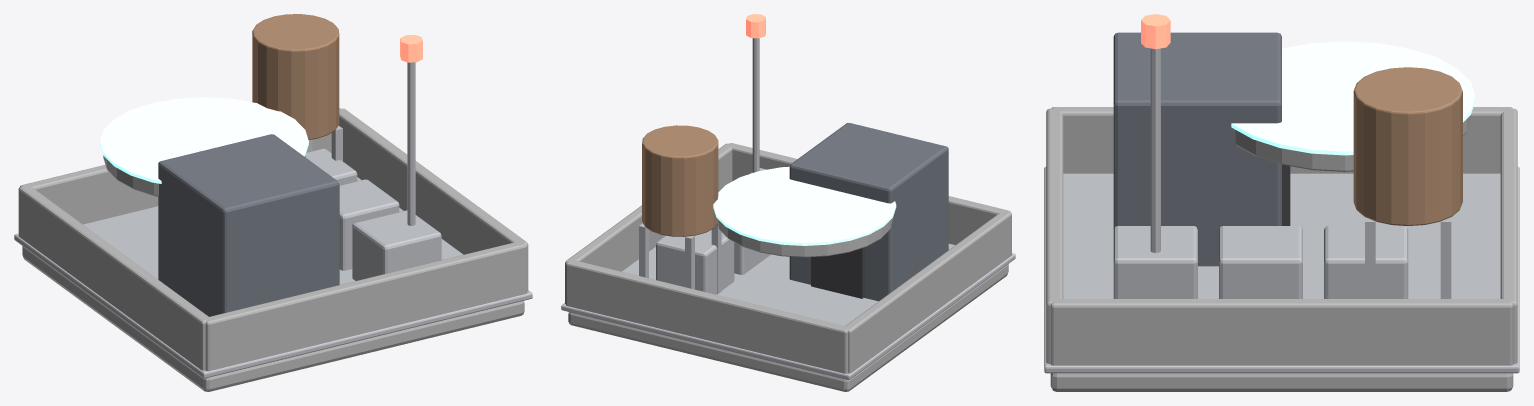
The model's file is roof_2x2_heli_office.glb.
3 renders of one model, left to right at view 1: azimuth 30°, elevation 25°; view 2: azimuth 150°, elevation 25°; view 3: azimuth 270°, elevation 25°, orthographic. The views are drawn at different scales.
Parts seen in each view (by area): view 1: ext_parapet, ext_penthouse, ext_helipad_ring, ext_tank, ext_ac, int_slab, int_slab_edge, ext_mast, ext_helipad, ext_beacon, ext_tank_legs; view 2: ext_parapet, ext_penthouse, ext_helipad_ring, int_slab_edge, ext_tank, int_slab, ext_ac, ext_penthouse_door, ext_helipad, ext_tank_legs, ext_mast, ext_beacon; view 3: ext_parapet, ext_penthouse, int_slab_edge, ext_ac, ext_tank, ext_helipad_ring, int_slab, ext_mast, ext_helipad, ext_tank_legs, ext_beacon, ext_penthouse_door.
Part boxes in pixels (x1=…): ext_parapet: x1=18, y1=108, x2=528, y2=371; ext_penthouse: x1=158, y1=134, x2=339, y2=316; ext_helipad_ring: x1=100, y1=97, x2=308, y2=183; ext_tank: x1=252, y1=14, x2=339, y2=139; ext_ac: x1=305, y1=148, x2=441, y2=280; int_slab: x1=22, y1=246, x2=524, y2=391; int_slab_edge: x1=14, y1=177, x2=532, y2=378; ext_mast: x1=407, y1=62, x2=415, y2=225; ext_helipad: x1=103, y1=155, x2=305, y2=196; ext_beacon: x1=400, y1=34, x2=422, y2=62; ext_tank_legs: x1=306, y1=125, x2=342, y2=161; ext_parapet: x1=565, y1=143, x2=1011, y2=373; ext_penthouse: x1=789, y1=123, x2=948, y2=301; ext_helipad_ring: x1=713, y1=166, x2=896, y2=245; int_slab_edge: x1=561, y1=243, x2=1015, y2=380; ext_tank: x1=642, y1=125, x2=718, y2=236; int_slab: x1=568, y1=264, x2=1008, y2=391; ext_ac: x1=656, y1=168, x2=770, y2=294; ext_penthouse_door: x1=811, y1=247, x2=865, y2=298; ext_helipad: x1=716, y1=217, x2=893, y2=257; ext_tank_legs: x1=639, y1=223, x2=721, y2=293; ext_mast: x1=752, y1=38, x2=759, y2=172; ext_beacon: x1=746, y1=14, x2=765, y2=38; ext_parapet: x1=1046, y1=107, x2=1517, y2=365; ext_penthouse: x1=1113, y1=32, x2=1281, y2=266; int_slab_edge: x1=1044, y1=166, x2=1519, y2=373; ext_ac: x1=1113, y1=226, x2=1408, y2=298; ext_tank: x1=1353, y1=67, x2=1462, y2=225; ext_helipad_ring: x1=1231, y1=41, x2=1475, y2=155; int_slab: x1=1050, y1=373, x2=1513, y2=391; ext_mast: x1=1150, y1=48, x2=1160, y2=252; ext_helipad: x1=1235, y1=114, x2=1471, y2=171; ext_tank_legs: x1=1365, y1=217, x2=1451, y2=298; ext_beacon: x1=1141, y1=14, x2=1170, y2=49; ext_penthouse_door: x1=1282, y1=165, x2=1290, y2=225.
Bounding box in the file's own units: 2.26 × 1.73 × 2.26.
